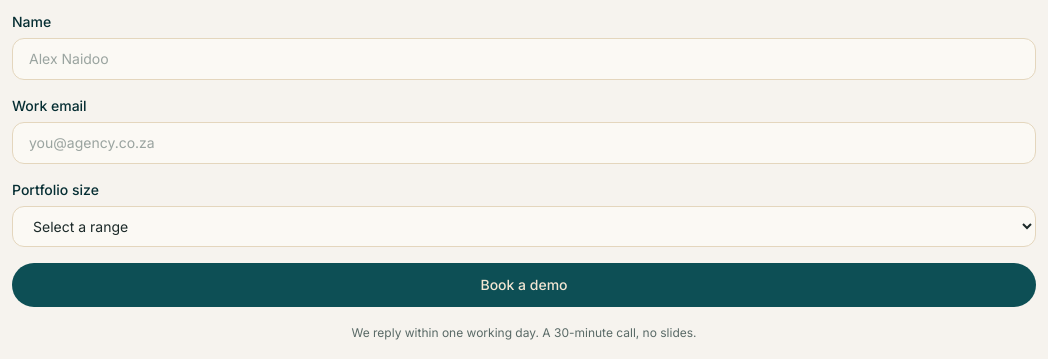
Test case: LeadForm › submits the lead and shows the success state
Step 1. Type "Thandi M" into the field labelled "Name" → (524, 59), box [12, 38, 1036, 80]
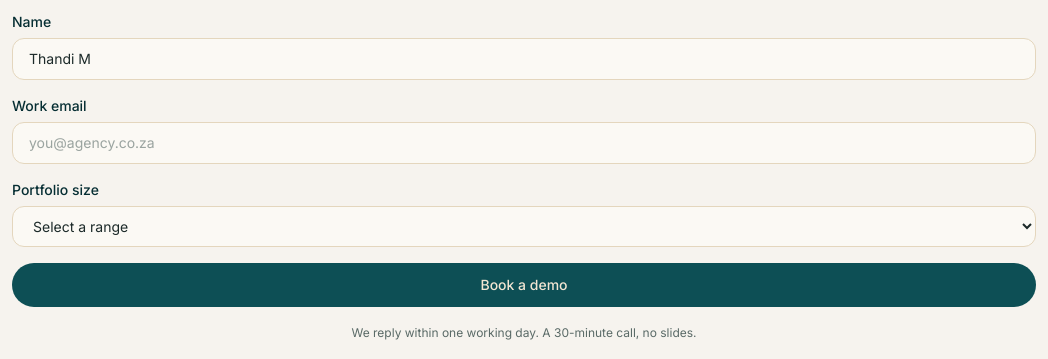
Step 2. Type "thandi@agency.co.za" into the field labelled "Work email" → (524, 143), box [12, 122, 1036, 164]
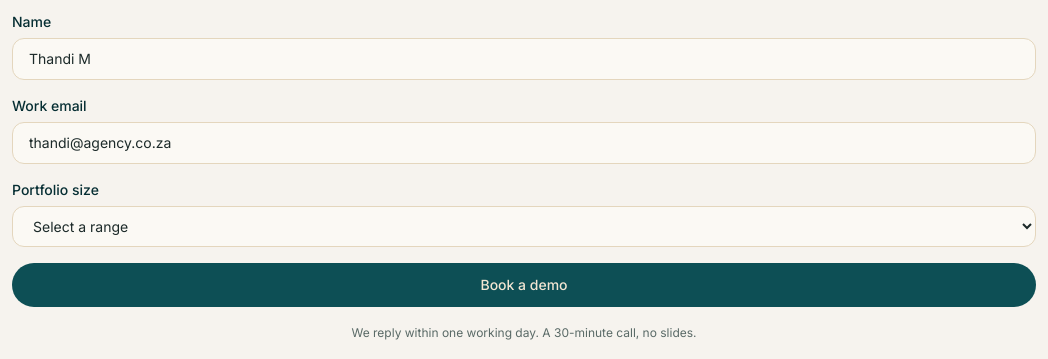
Step 3. Select "80 to 250 properties" in the dropdown labelled "Portfolio size" → (524, 226), box [12, 206, 1036, 247]
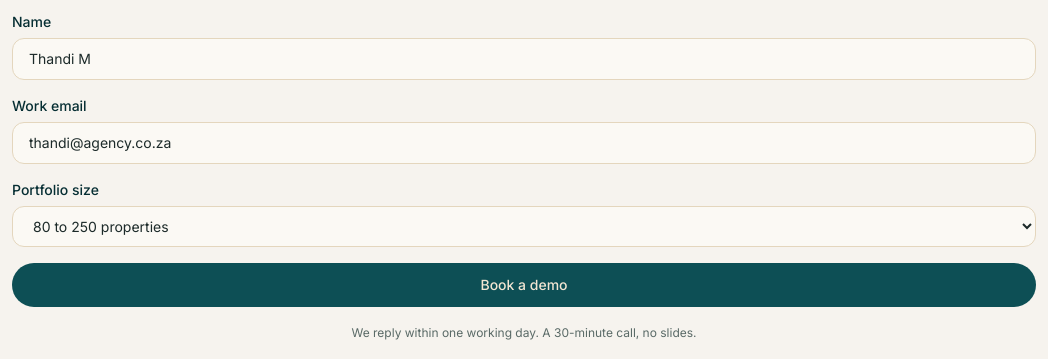
Step 4. Submit the form "Book a demo"
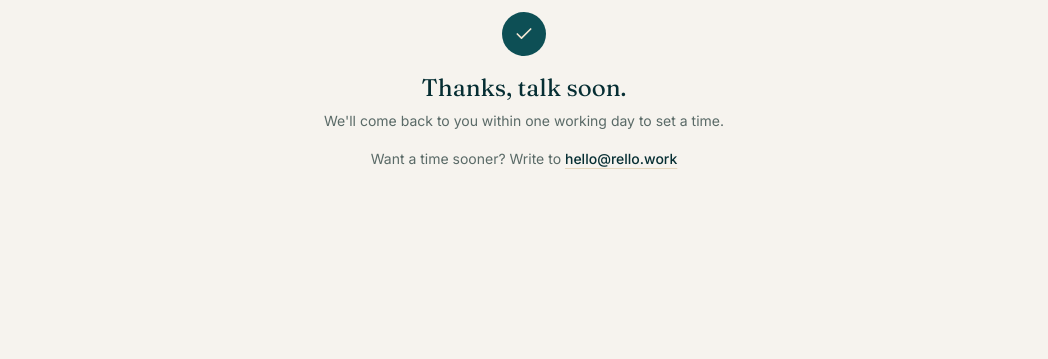
Check: the text "Thanks, talk soon." is shown, box [422, 73, 626, 102]
Check: the link "hello@rello.work" is shown, box [565, 150, 677, 167]
